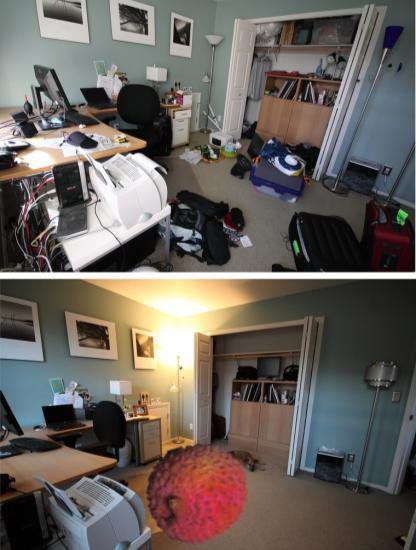Lychee: (144, 440, 252, 548)
